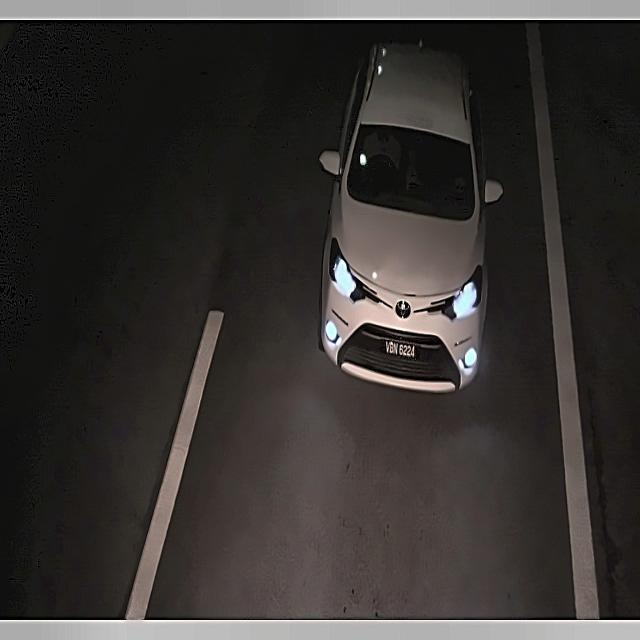car: (380, 332, 426, 364)
